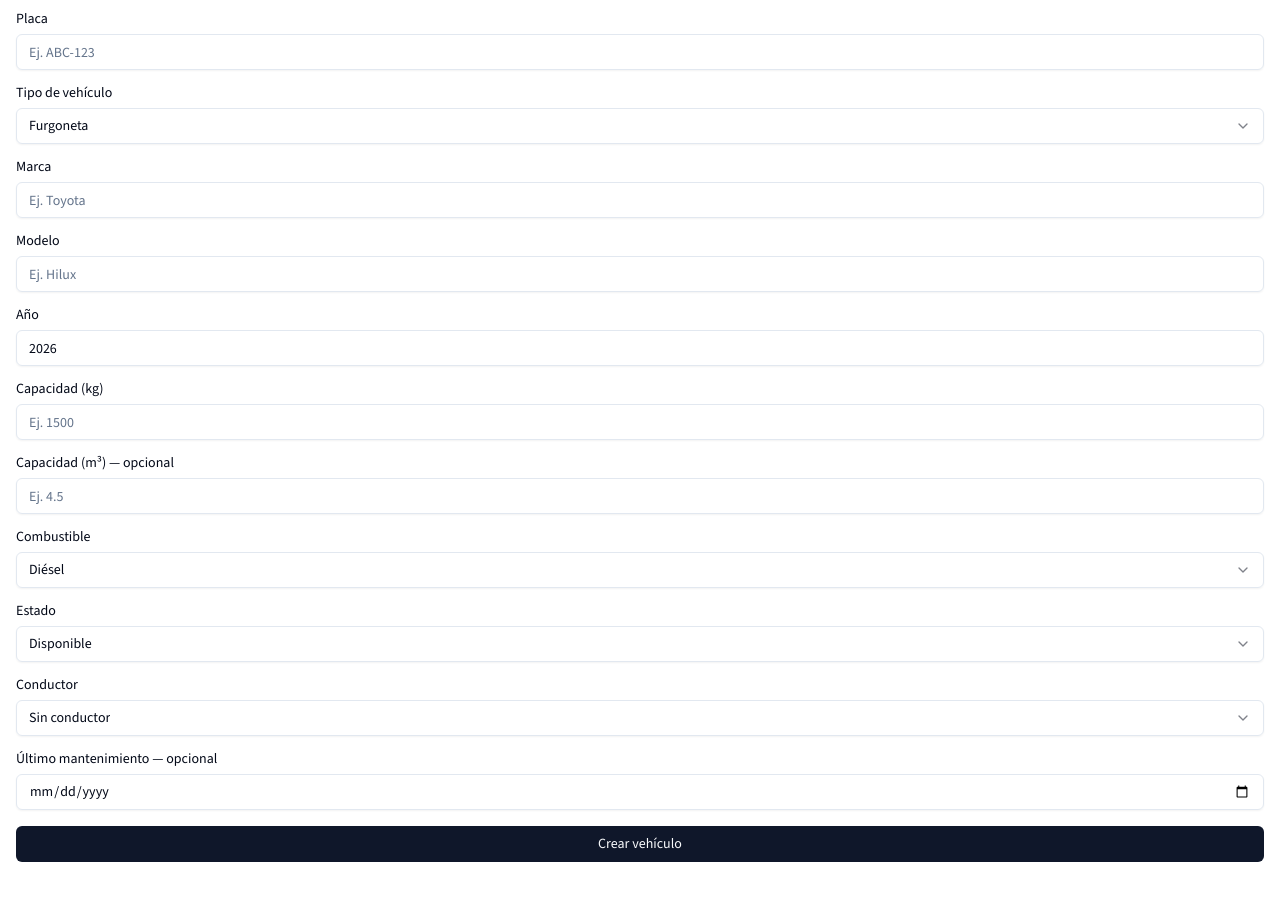
Test case: VehicleForm — validation › shows error when plate is empty on submit
The width and height of the screenshot is (1280, 912).
Note: fill all required except plate, then submit
Type "Honda" into the field with placeholder "Ej. Toyota".
click(640, 200); type("Honda")  # box [16,182,1264,218]
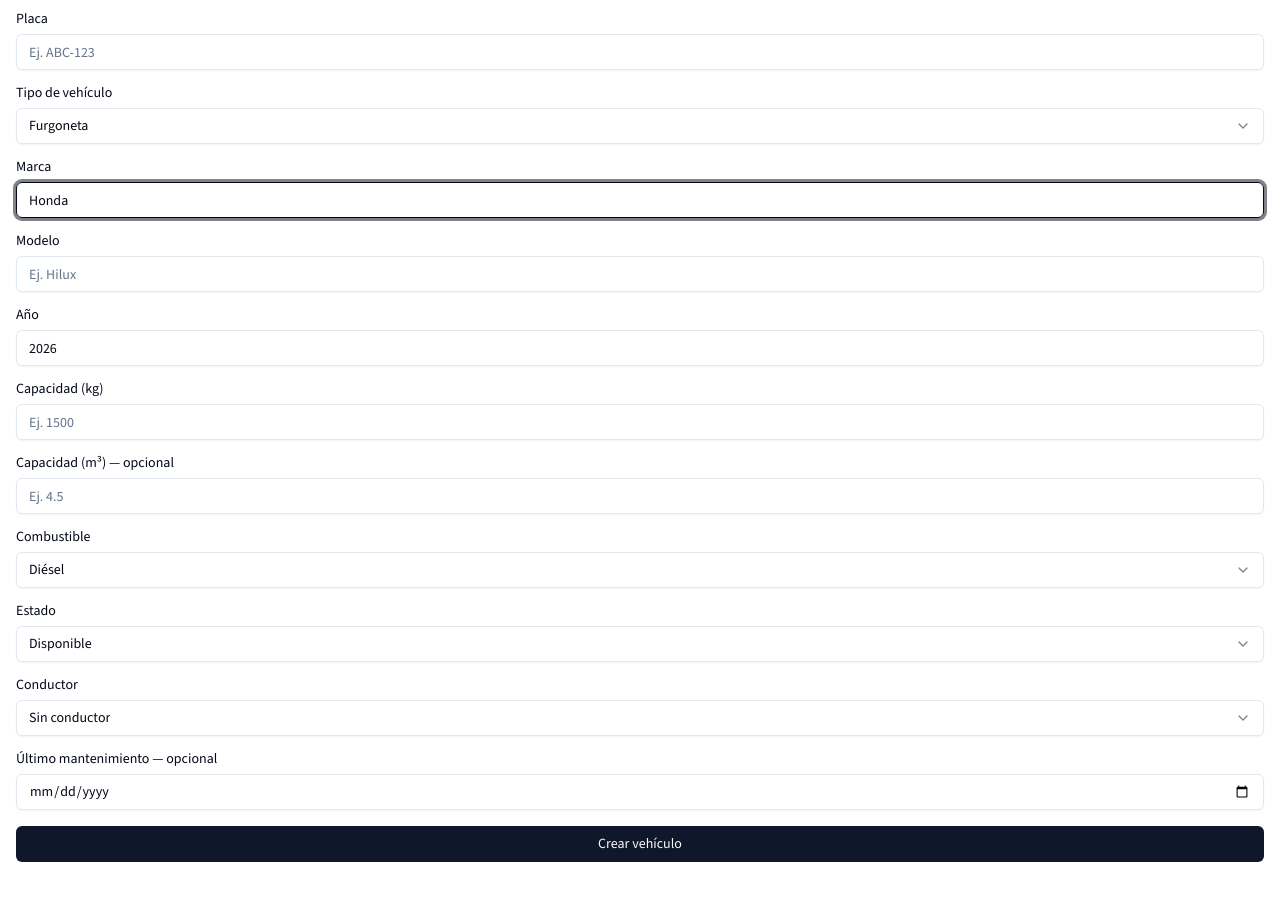
Type "CRV" into the field with placeholder "Ej. Hilux".
click(640, 274); type("CRV")  # box [16,256,1264,292]
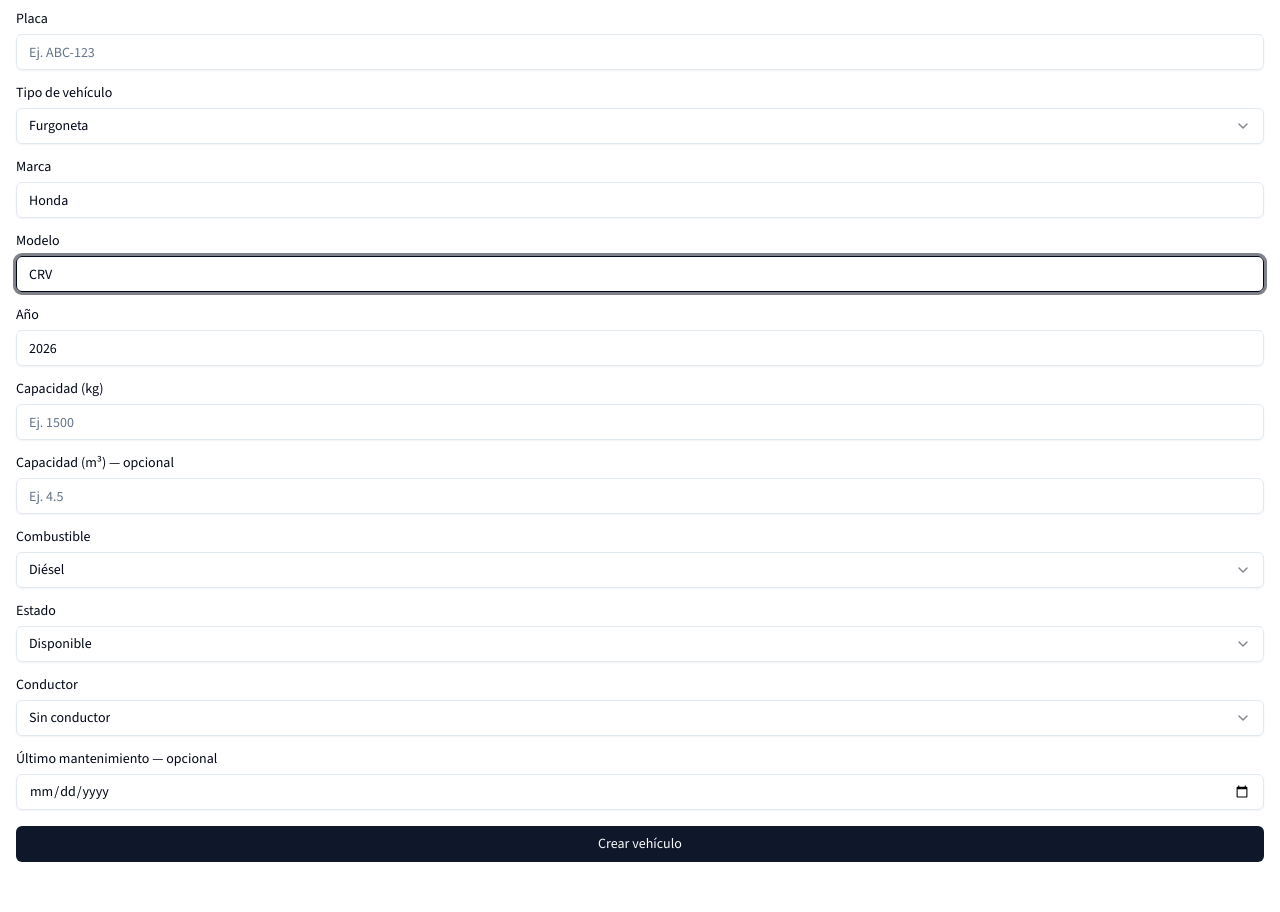
Type "800" into the field with placeholder "Ej. 1500".
click(640, 422); type("800")  # box [16,404,1264,440]
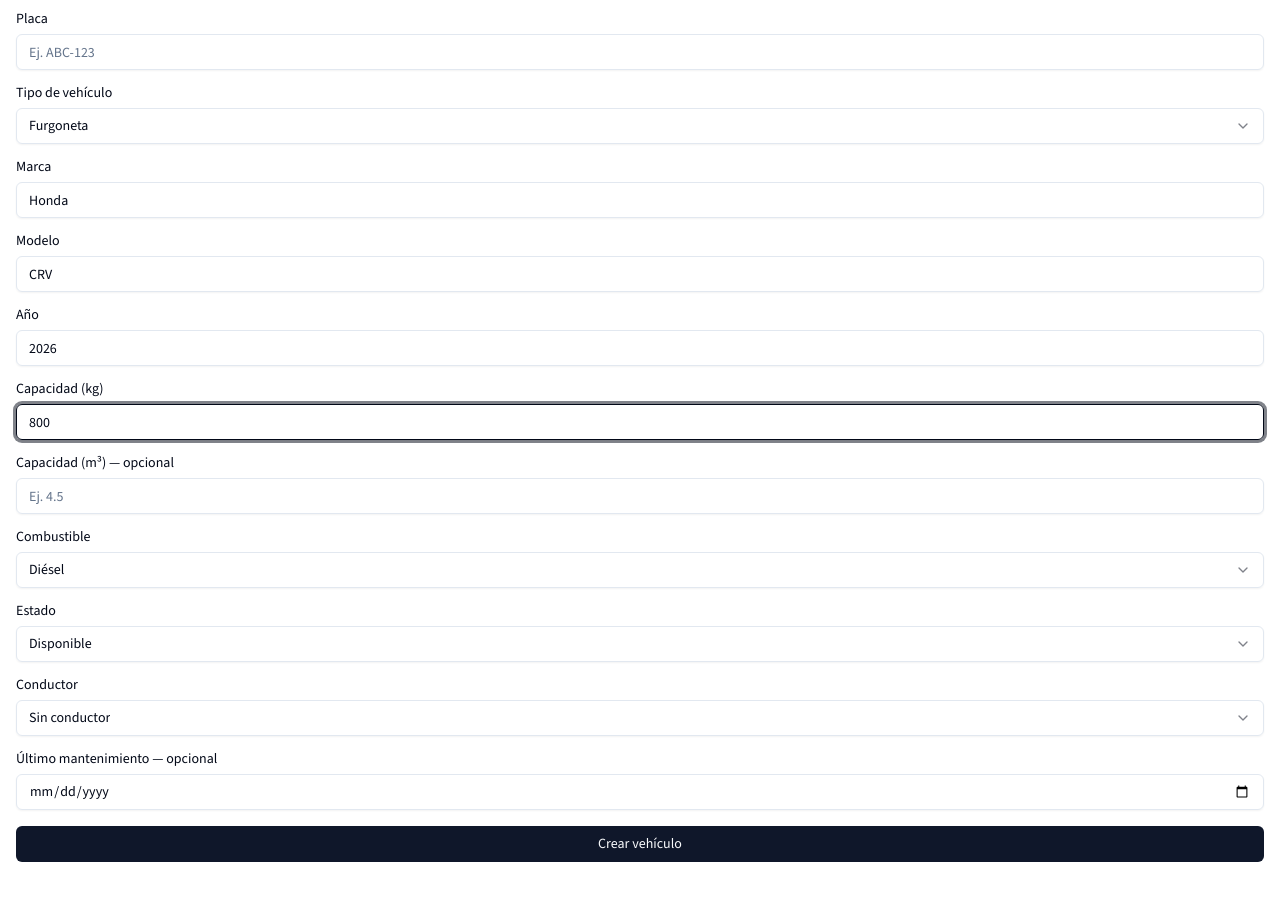
Click the button "Crear vehículo".
click(640, 844)  # box [16,826,1264,862]
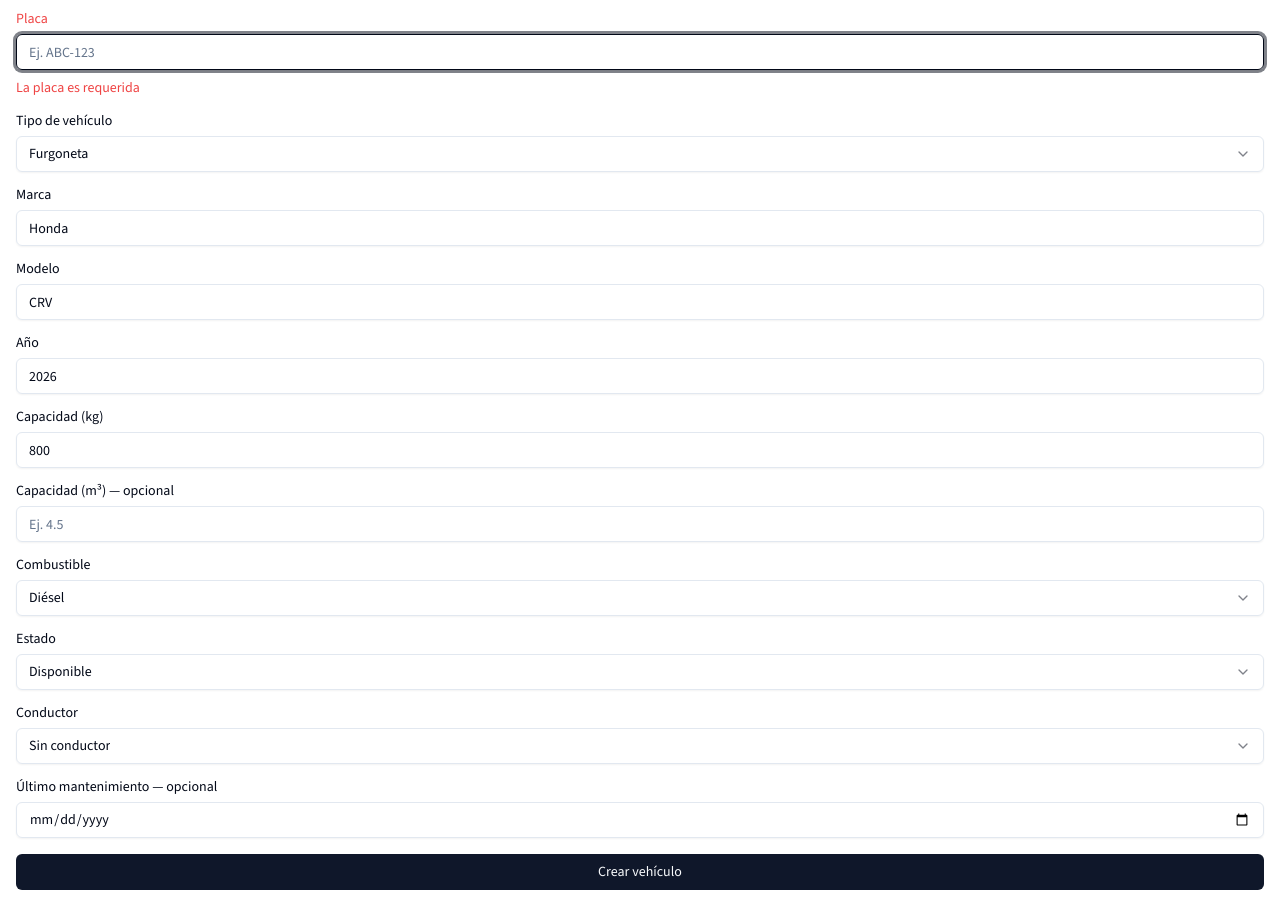
Expected: the text "La placa es requerida" is shown, [16,78,140,97]
